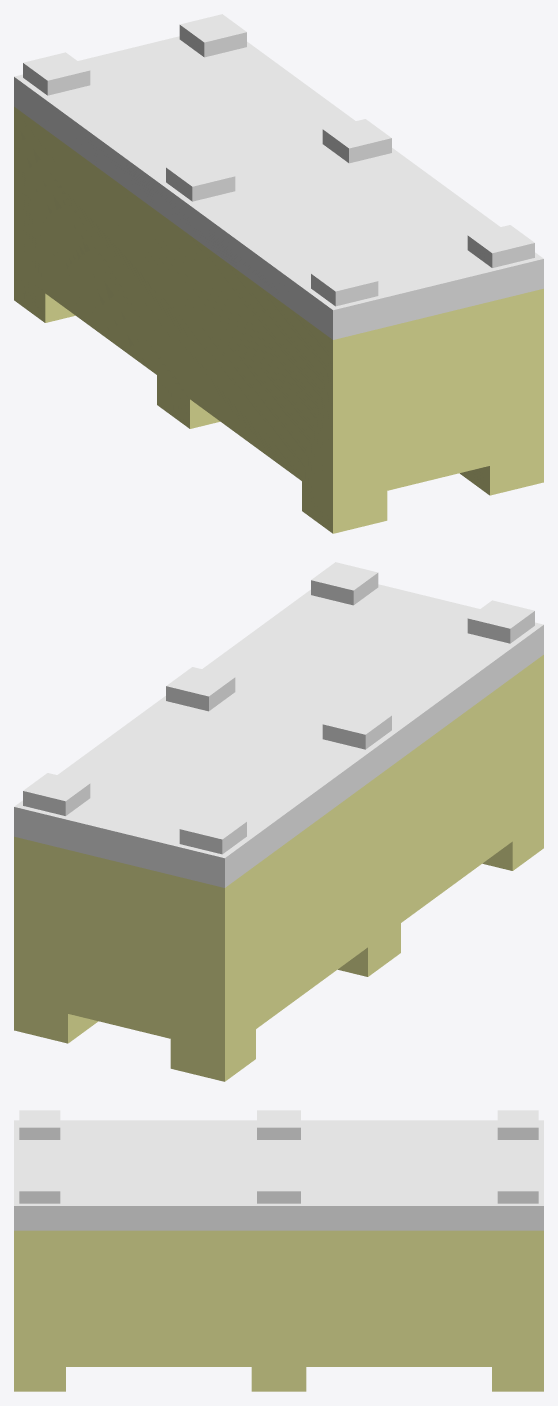
Rendered from RLGLB.glb.
3 renders of one model, top to bottom at view 1: azimuth 30°, elevation 25°; view 2: azimuth 150°, elevation 25°; view 3: azimuth 270°, elevation 25°, orthographic. The views are drawn at different scales.
Parts seen in each view (by area): view 1: imagetostl_mesh; view 2: imagetostl_mesh; view 3: imagetostl_mesh.
Part boxes in pixels (bbox=[...]): imagetostl_mesh: bbox=[14, 14, 543, 533]; imagetostl_mesh: bbox=[14, 562, 543, 1081]; imagetostl_mesh: bbox=[14, 1110, 543, 1391].
Size of the model in its own units: 29.13 by 31.5 by 76.38.
